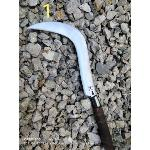Celurit: (18, 8, 124, 150)
